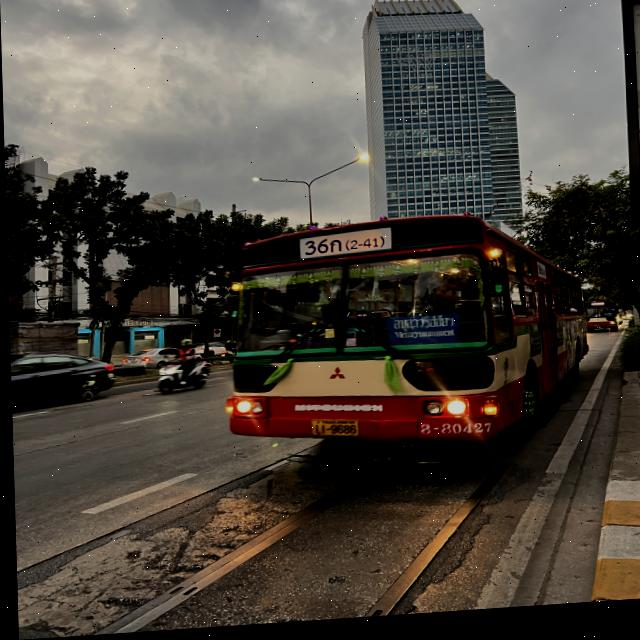BMTA-bus: (218, 213, 589, 467)
Bus-Line-Number: (295, 234, 391, 265)
Destination-Sign-Normal: (384, 319, 459, 352)
